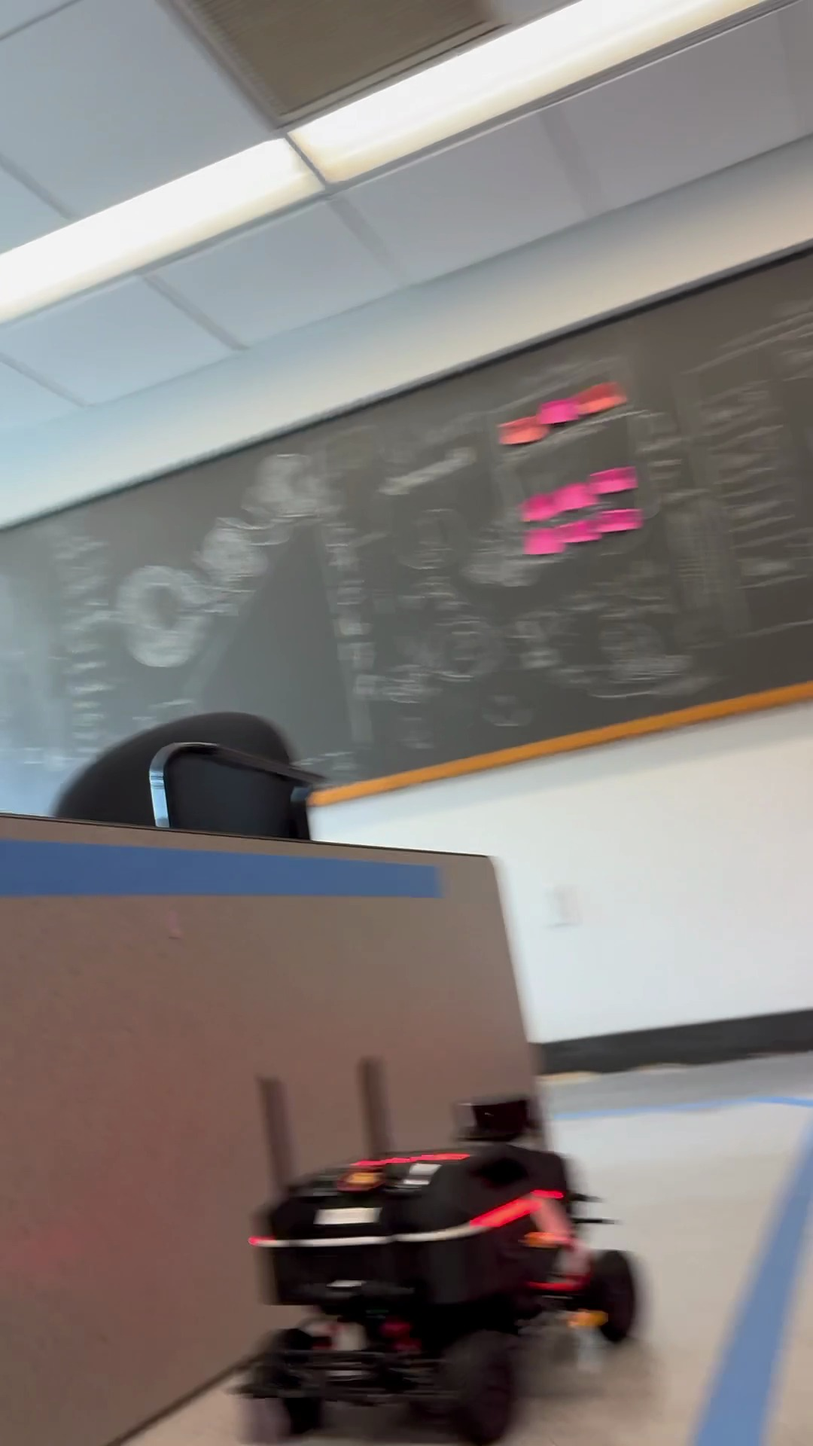racecar: (239, 1061, 637, 1442)
